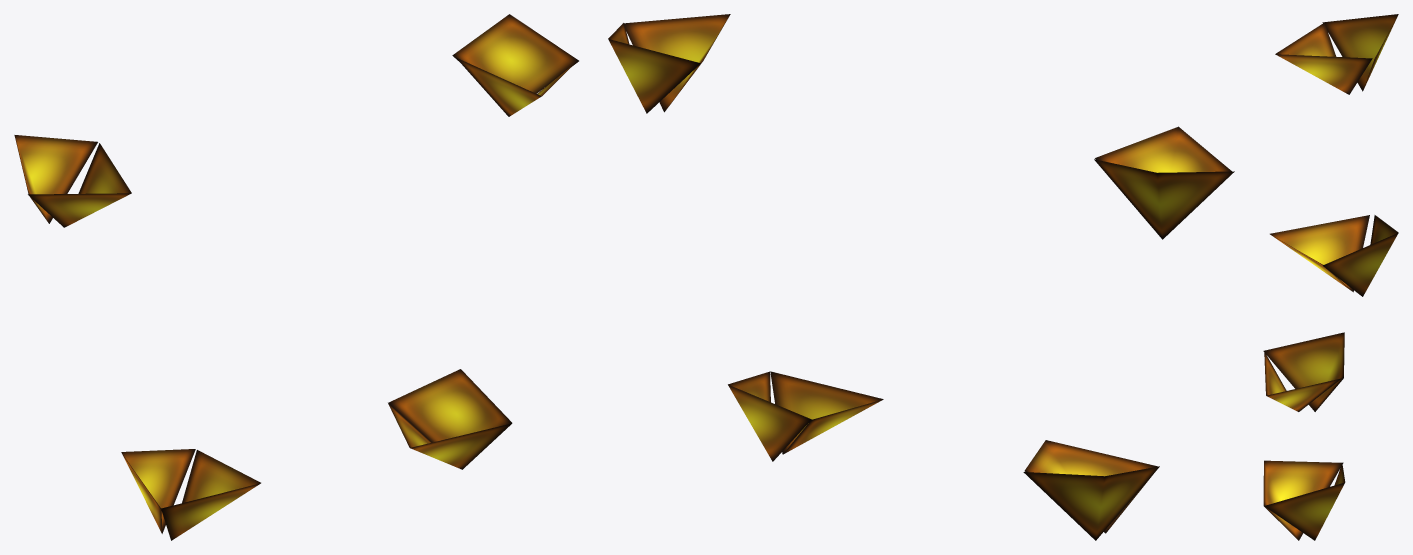
Rendered from jetpack_mk1_lights.DAE.
3 renders of one model, left to right at view 1: azimuth 30°, elevation 25°; view 2: azimuth 150°, elevation 25°; view 3: azimuth 270°, elevation 25°, orthographic. The views are drawn at different scales.
Visible parts, largest first — view 1: Plane04; view 2: Plane04; view 3: Plane04.
Part boxes in pixels (bbox=[...]): Plane04: bbox=[14, 14, 578, 540]; Plane04: bbox=[608, 14, 1234, 540]; Plane04: bbox=[1263, 14, 1398, 540].
Bounding box in the file's own units: 0.6182 × 0.4189 × 0.1457.
